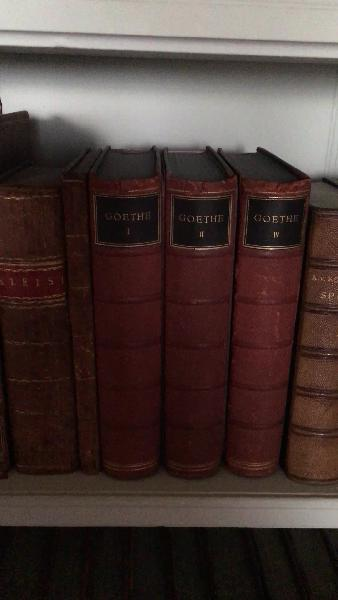Aa6-10: (59, 171, 102, 479)
Aa6-11_13: (89, 180, 304, 485)
Aa6-9: (3, 187, 75, 480)
